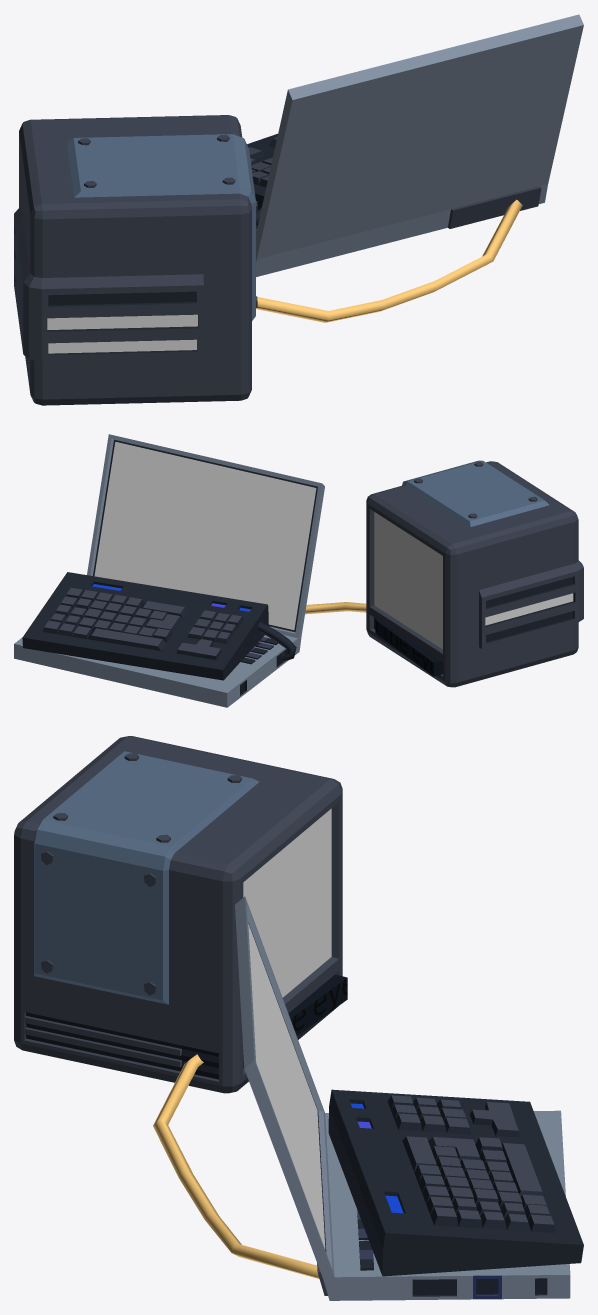
File: DumpsterWifi.fbx
3 views of the same model, one above another, from view 1: azimuth 30°, elevation 25°; view 2: azimuth 150°, elevation 25°; view 3: azimuth 270°, elevation 25° (orthographic). The views are drawn at different scales.
Visible parts, largest first — view 1: DumpsterWifi; view 2: DumpsterWifi; view 3: DumpsterWifi.
Boxes of the visible parts, <box> form: DumpsterWifi: <box>14,14,583,405</box>; DumpsterWifi: <box>14,434,583,707</box>; DumpsterWifi: <box>14,736,583,1300</box>.
Bounding box in the file's own units: 210 × 74.87 × 150.
